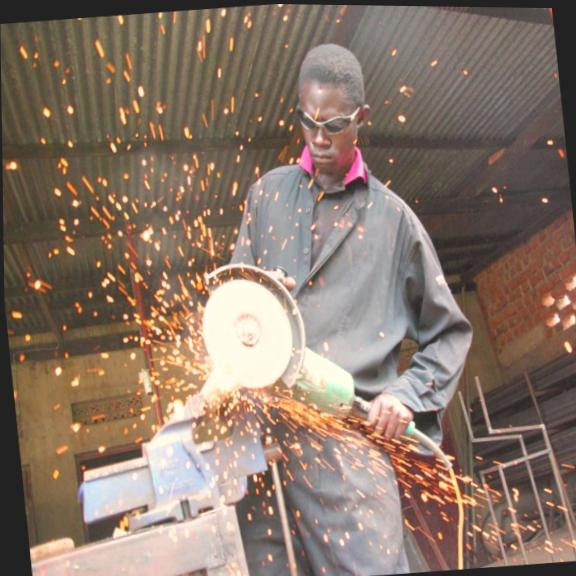no_safety_vest: (223, 149, 422, 435)
